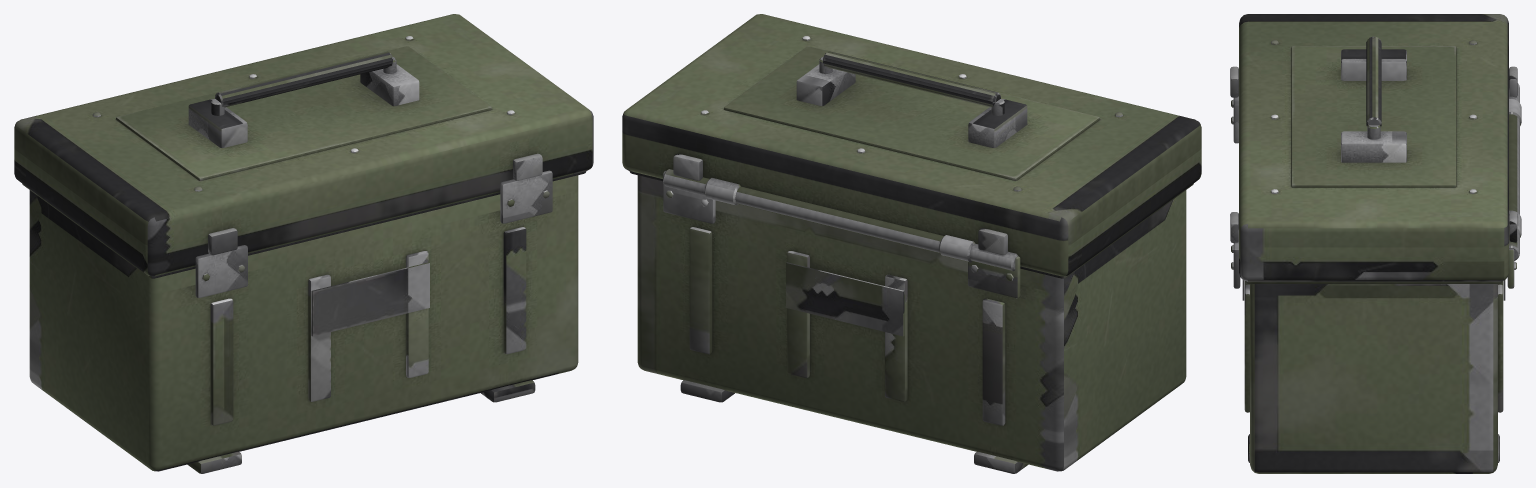
File: ammo_box.glb
3 renders of one model, left to right at view 1: azimuth 30°, elevation 25°; view 2: azimuth 150°, elevation 25°; view 3: azimuth 270°, elevation 25°, orthographic. The views are drawn at different scales.
Parts seen in each view (by area): view 1: body, lid, lid_ridge, stencil.001, handle, rib.004, rib.007, latch_plate.003, latch_plate.002, rib.005, handle_bracket, rib.006 (+6 smaller); view 2: body, lid, lid_ridge, stencil, hinge, handle, rib, rib.003, rib.001, handle_bracket, rib.002, handle_bracket.001 (+8 smaller); view 3: lid, body, lid_ridge, handle_bracket.001, handle_bracket, handle, hinge, rib.003, gasket, rib.007.
Boxes of the visible parts, bbox=[...] form: body: bbox=[29, 175, 578, 471]; lid: bbox=[14, 14, 593, 276]; lid_ridge: bbox=[116, 46, 491, 180]; stencil.001: bbox=[311, 262, 429, 336]; handle: bbox=[215, 51, 392, 107]; rib.004: bbox=[210, 298, 233, 425]; rib.007: bbox=[503, 227, 526, 354]; latch_plate.003: bbox=[500, 170, 552, 223]; latch_plate.002: bbox=[195, 245, 247, 298]; rib.005: bbox=[308, 274, 330, 401]; handle_bracket: bbox=[188, 99, 247, 147]; rib.006: bbox=[406, 251, 428, 377]; body: bbox=[637, 175, 1186, 471]; lid: bbox=[622, 14, 1201, 276]; lid_ridge: bbox=[724, 46, 1099, 180]; stencil: bbox=[786, 262, 904, 336]; hinge: bbox=[663, 169, 1017, 271]; handle: bbox=[823, 51, 1000, 107]; rib: bbox=[982, 298, 1005, 425]; rib.003: bbox=[689, 227, 712, 354]; rib.001: bbox=[885, 274, 907, 401]; handle_bracket: bbox=[968, 99, 1027, 147]; rib.002: bbox=[787, 251, 809, 377]; handle_bracket.001: bbox=[796, 64, 855, 106]; lid: bbox=[1239, 14, 1508, 281]; body: bbox=[1250, 284, 1497, 473]; lid_ridge: bbox=[1291, 46, 1456, 187]; handle_bracket.001: bbox=[1341, 131, 1406, 162]; handle_bracket: bbox=[1341, 49, 1406, 80]; handle: bbox=[1366, 36, 1381, 126]; hinge: bbox=[1509, 83, 1519, 260]; rib.003: bbox=[1498, 284, 1503, 412]; gasket: bbox=[1246, 281, 1501, 283]; rib.007: bbox=[1244, 284, 1249, 412].
Bounding box in the file's own units: 0.2294 × 0.1541 × 0.1322.
1 material, 1 textured.
